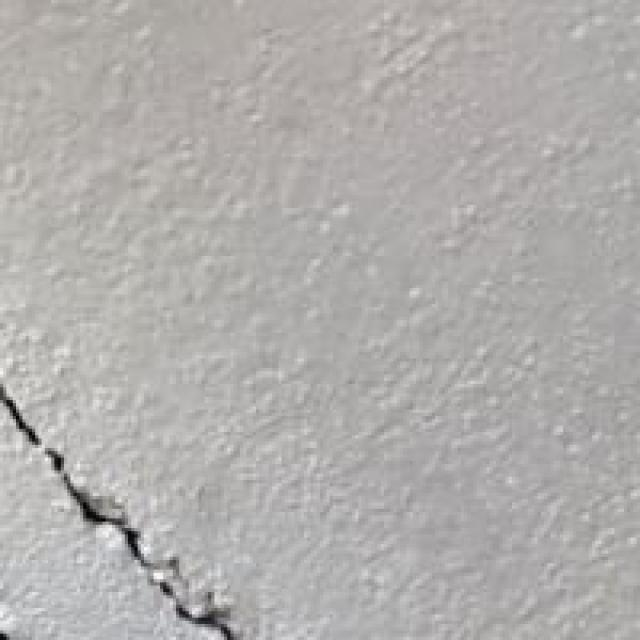Crack: (0, 374, 282, 637)
